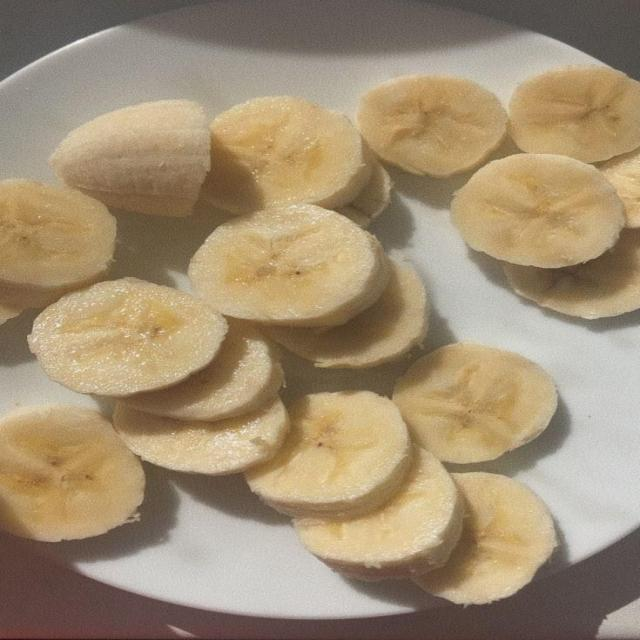banana slice: (189, 205, 389, 326), (28, 278, 227, 396), (295, 448, 464, 581), (246, 392, 411, 517), (393, 343, 557, 463), (452, 154, 624, 268), (0, 405, 144, 541), (203, 97, 370, 214), (413, 473, 556, 604), (50, 100, 209, 216), (267, 261, 429, 368), (122, 319, 283, 421), (358, 76, 506, 177), (0, 180, 115, 299), (114, 398, 289, 475), (509, 65, 639, 162), (503, 229, 639, 319), (0, 278, 99, 323), (337, 162, 392, 228), (600, 150, 639, 227), (0, 302, 24, 324)
